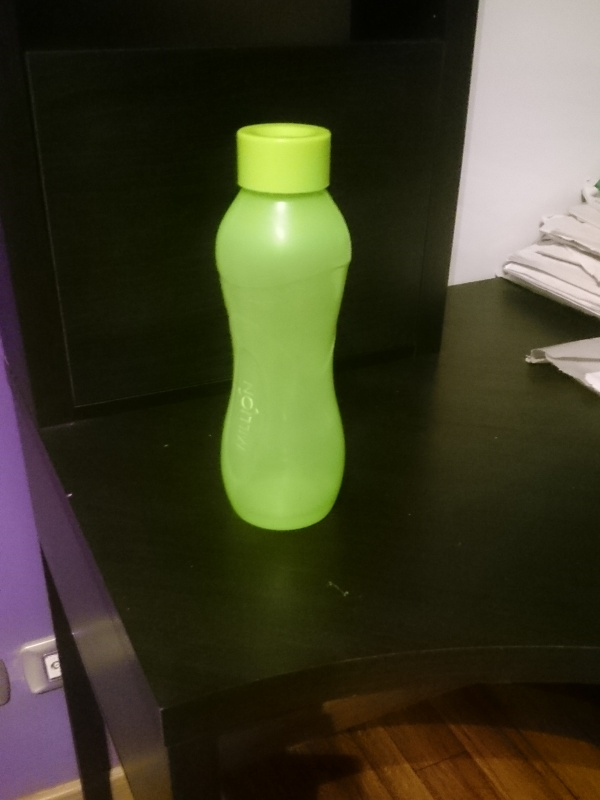my bottle: (212, 125, 355, 528)
